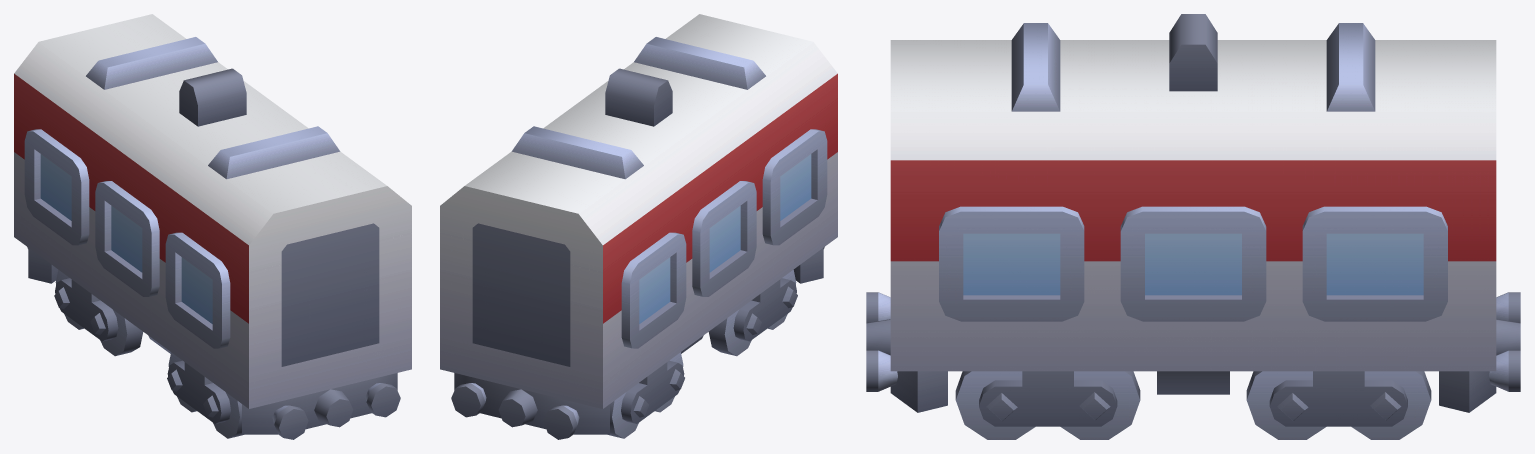
File: train-electric-city-c.glb
3 views of the same model, side by side, from view 1: azimuth 30°, elevation 25°; view 2: azimuth 150°, elevation 25°; view 3: azimuth 270°, elevation 25° (orthographic). The views are drawn at different scales.
Parts seen in each view (by area): view 1: train-electric-city-c; view 2: train-electric-city-c; view 3: train-electric-city-c.
Boxes of the visible parts, x1=… form: train-electric-city-c: x1=14, y1=14, x2=411, y2=439; train-electric-city-c: x1=440, y1=14, x2=837, y2=439; train-electric-city-c: x1=866, y1=14, x2=1520, y2=439.
Bounding box in the file's own units: 1.1 × 1.68 × 2.7.
1 material, 1 textured.
